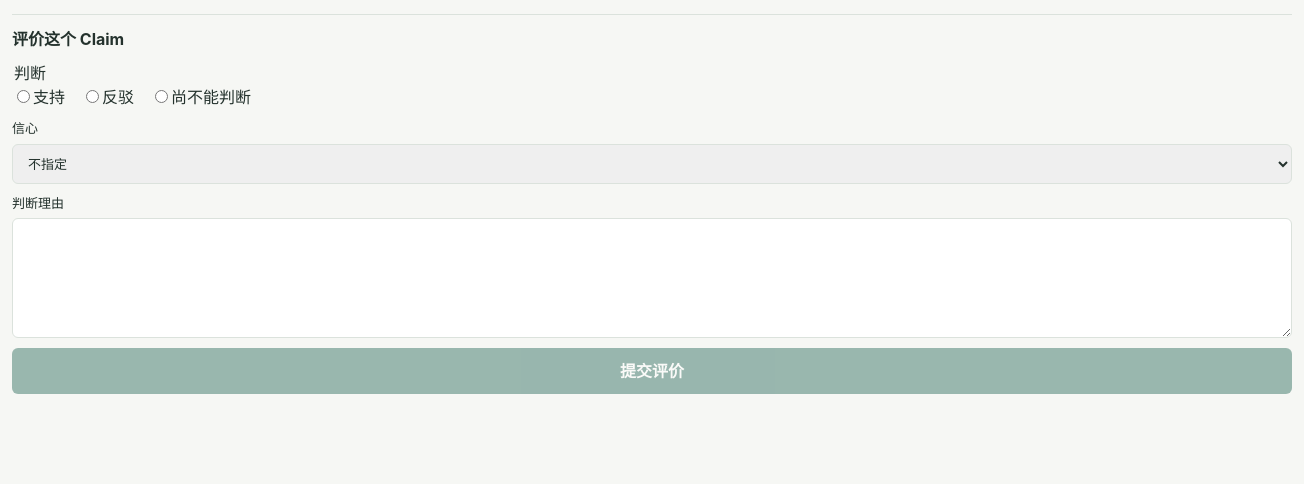
Scenario: pending committed intent › requires explicit discard when another committed intent already owns the pending receipt
The width and height of the screenshot is (1304, 484).
Click the radio button labelled "支持": (24, 96) [17,90,30,103]
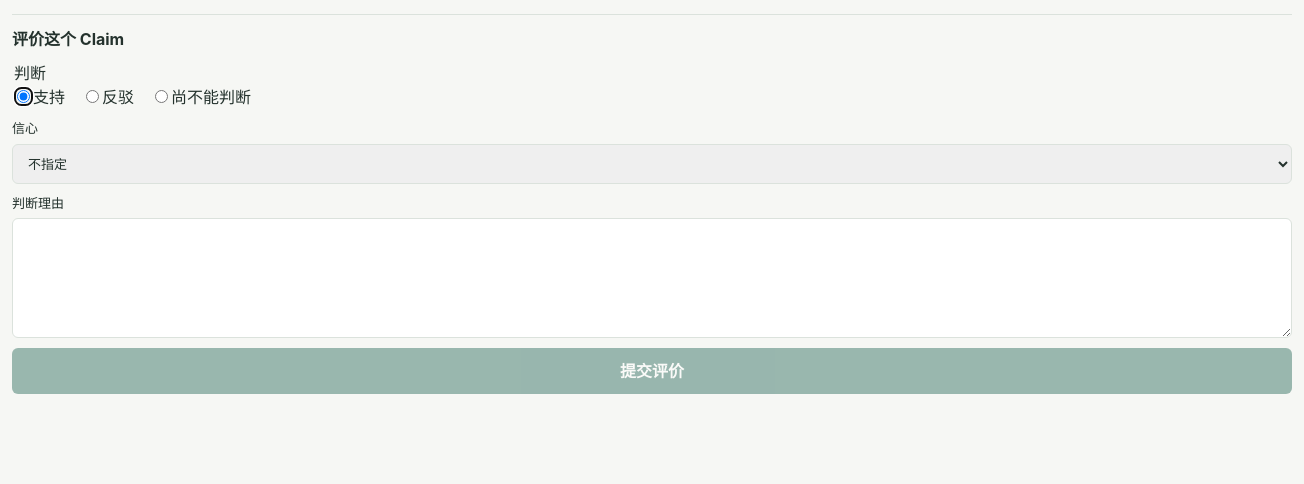
In the text box labelled "判断理由": (652, 278) [12,218,1292,338], type "当前证据支持。"
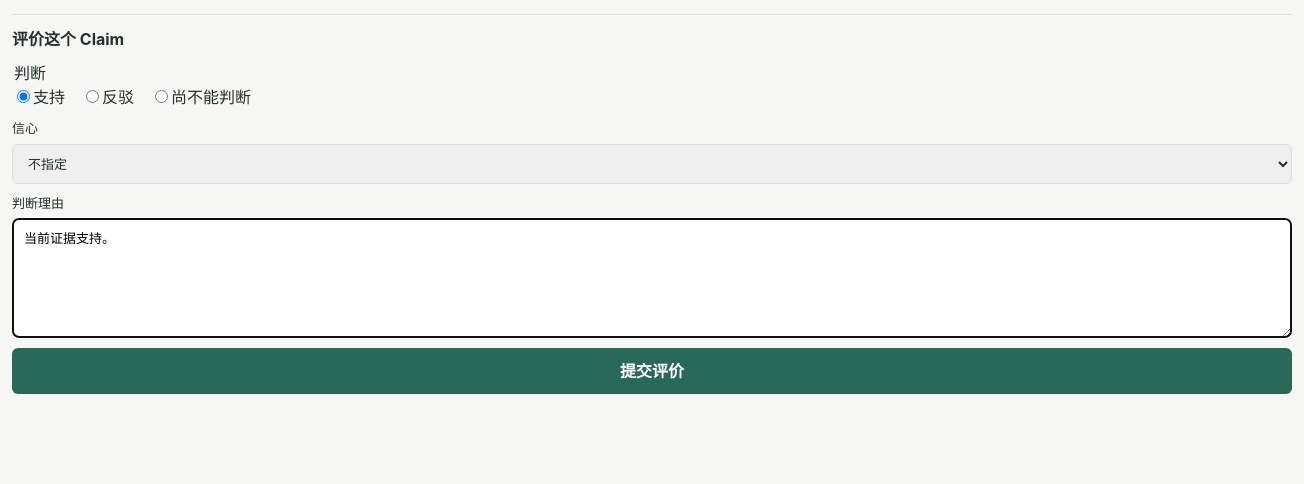
Click the button "提交评价": (652, 370) [12,348,1292,394]
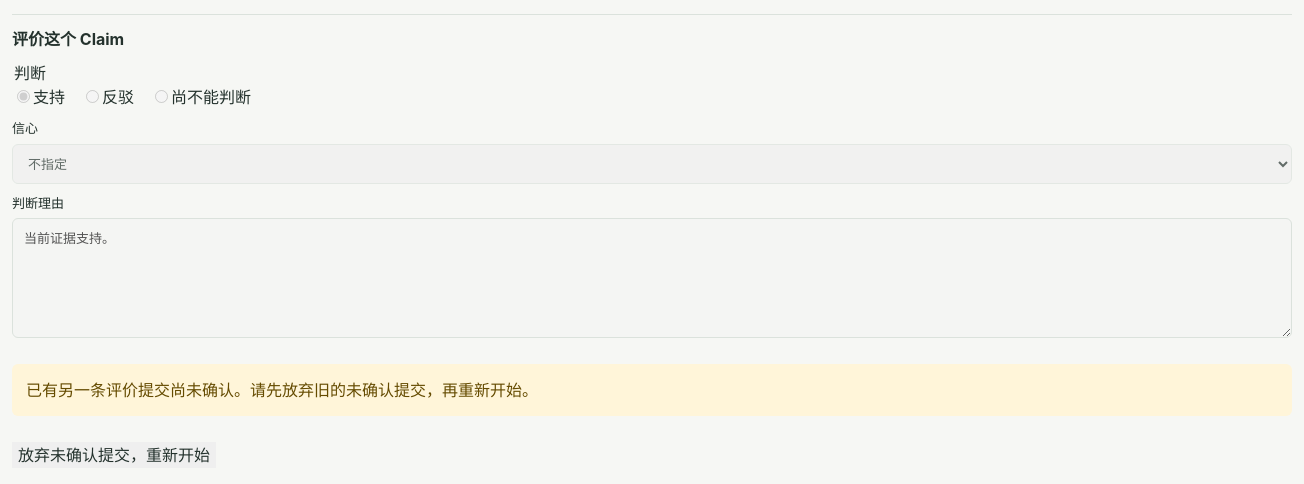
Now the text "已有另一条评价提交尚未确认。请先放弃旧的未确认提交，再重新开始。" is shown, box [12,364,1292,416]
Now the button "放弃未确认提交，重新开始" is shown, box [12,442,216,468]
